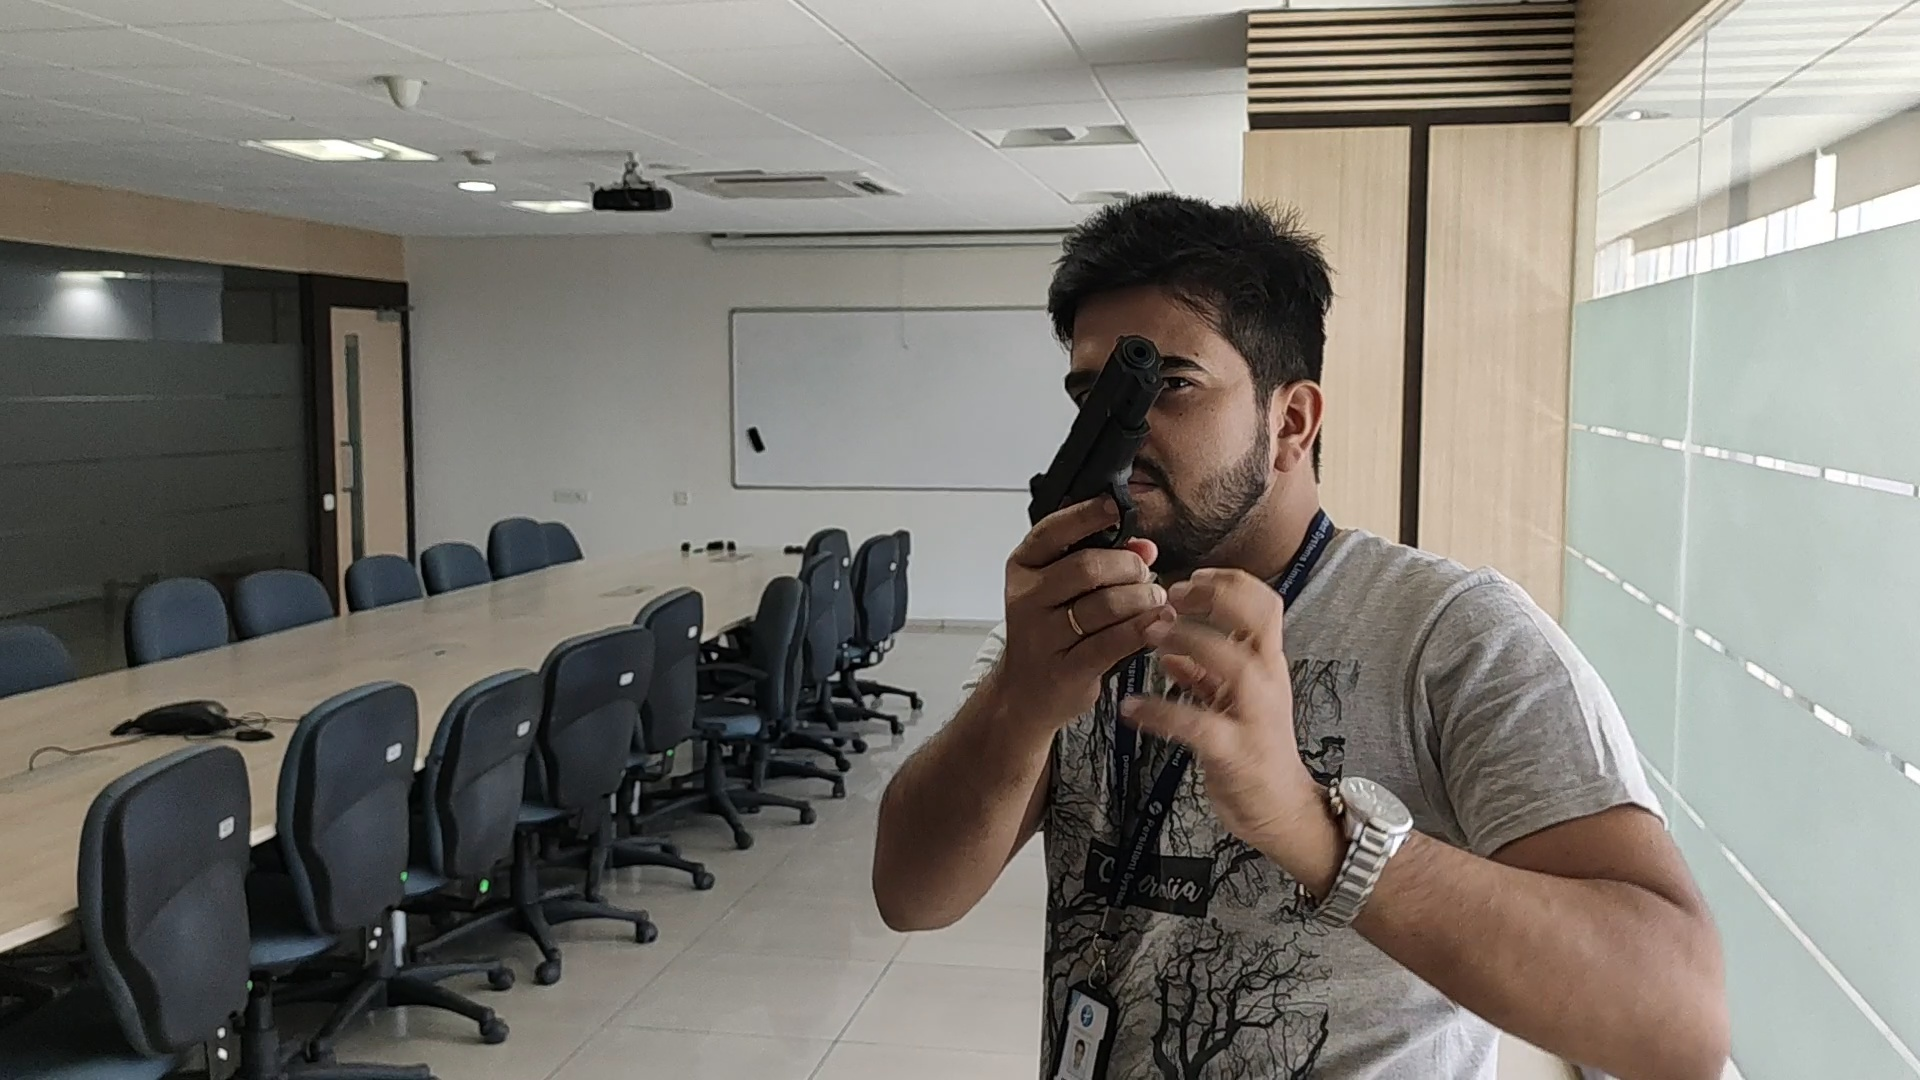gun: (1029, 338, 1163, 537)
